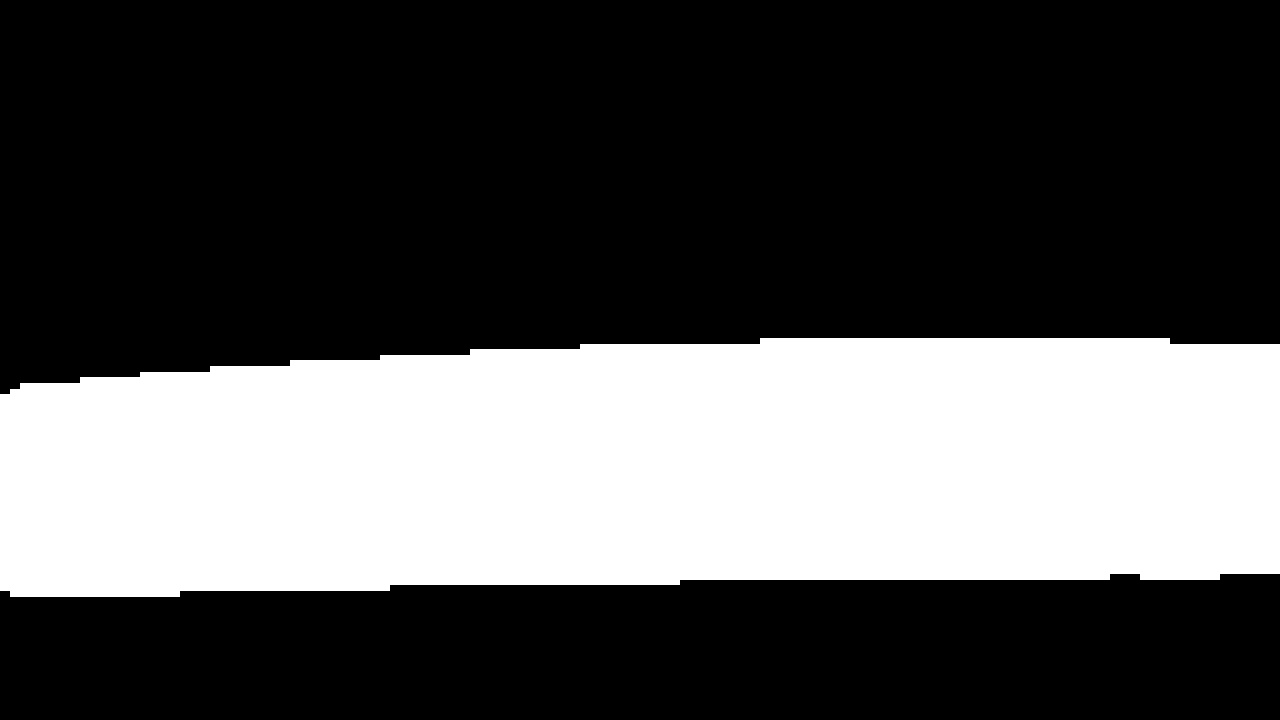Turbine: (11, 309, 1266, 618)
